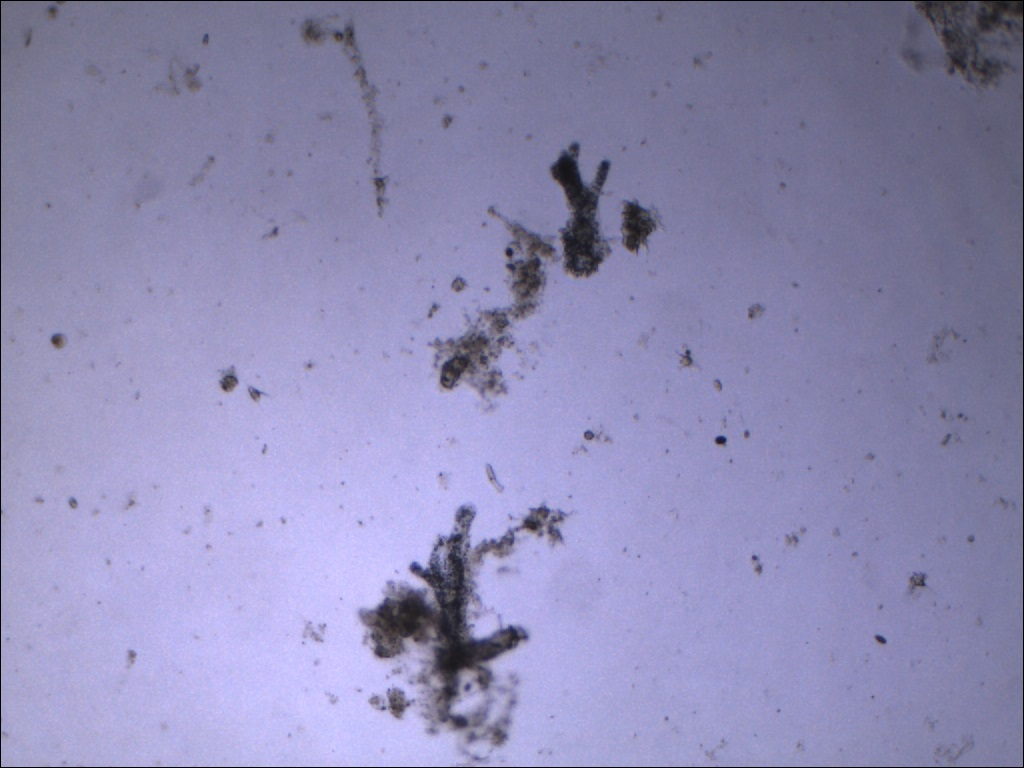amoeba: (546, 135, 623, 286)
